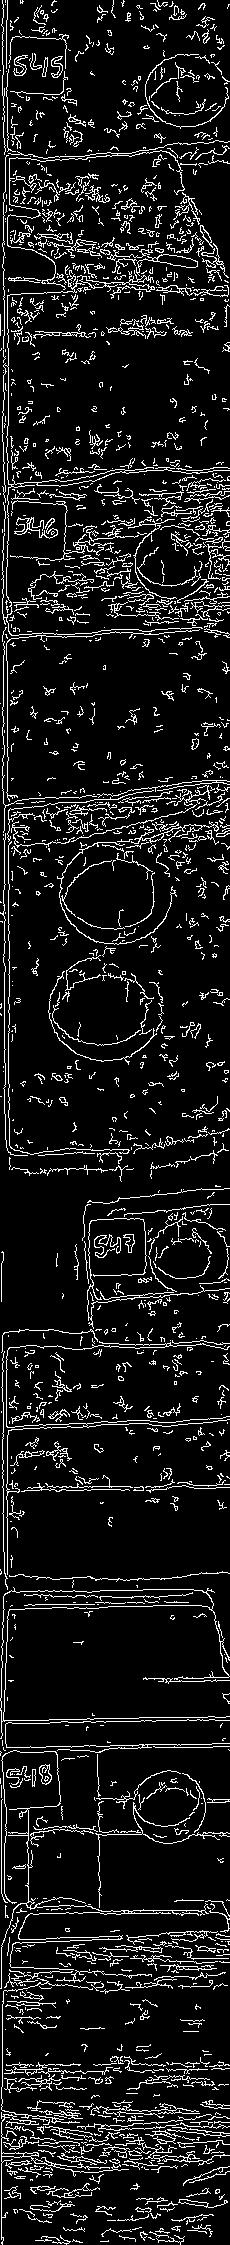hplug: (130, 514, 223, 607), (126, 1758, 211, 1853), (139, 49, 230, 133), (144, 1216, 230, 1297)
scal: (53, 838, 179, 951), (46, 955, 171, 1065)
vplug: (23, 1741, 111, 1916), (6, 1208, 111, 1354)
